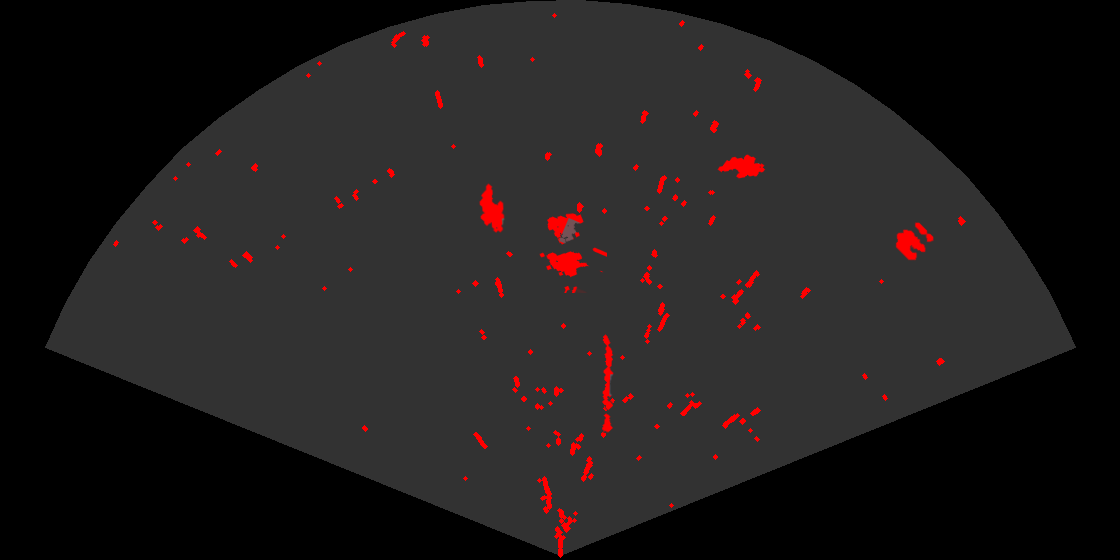AUV: (478, 182, 506, 234), (716, 153, 767, 180)
ball: (894, 221, 935, 262)
cage: (538, 211, 607, 293)
chain: (601, 333, 615, 433)
